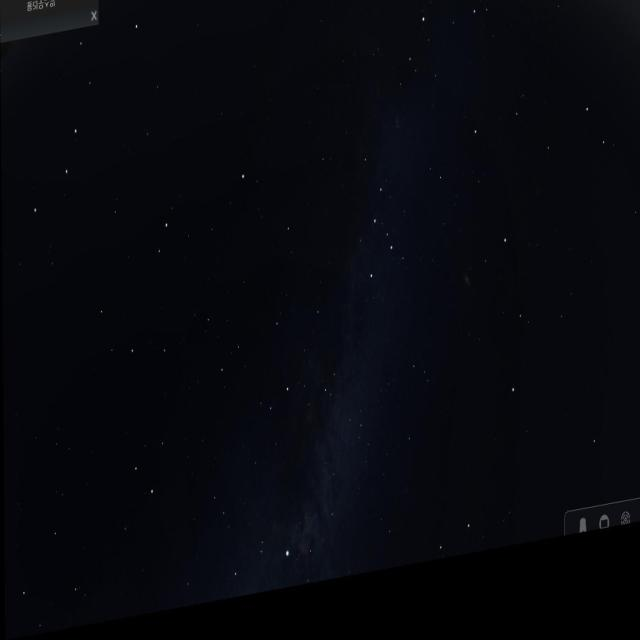cassiopeia: (348, 158, 406, 316)
ursa_major: (29, 0, 146, 220)
